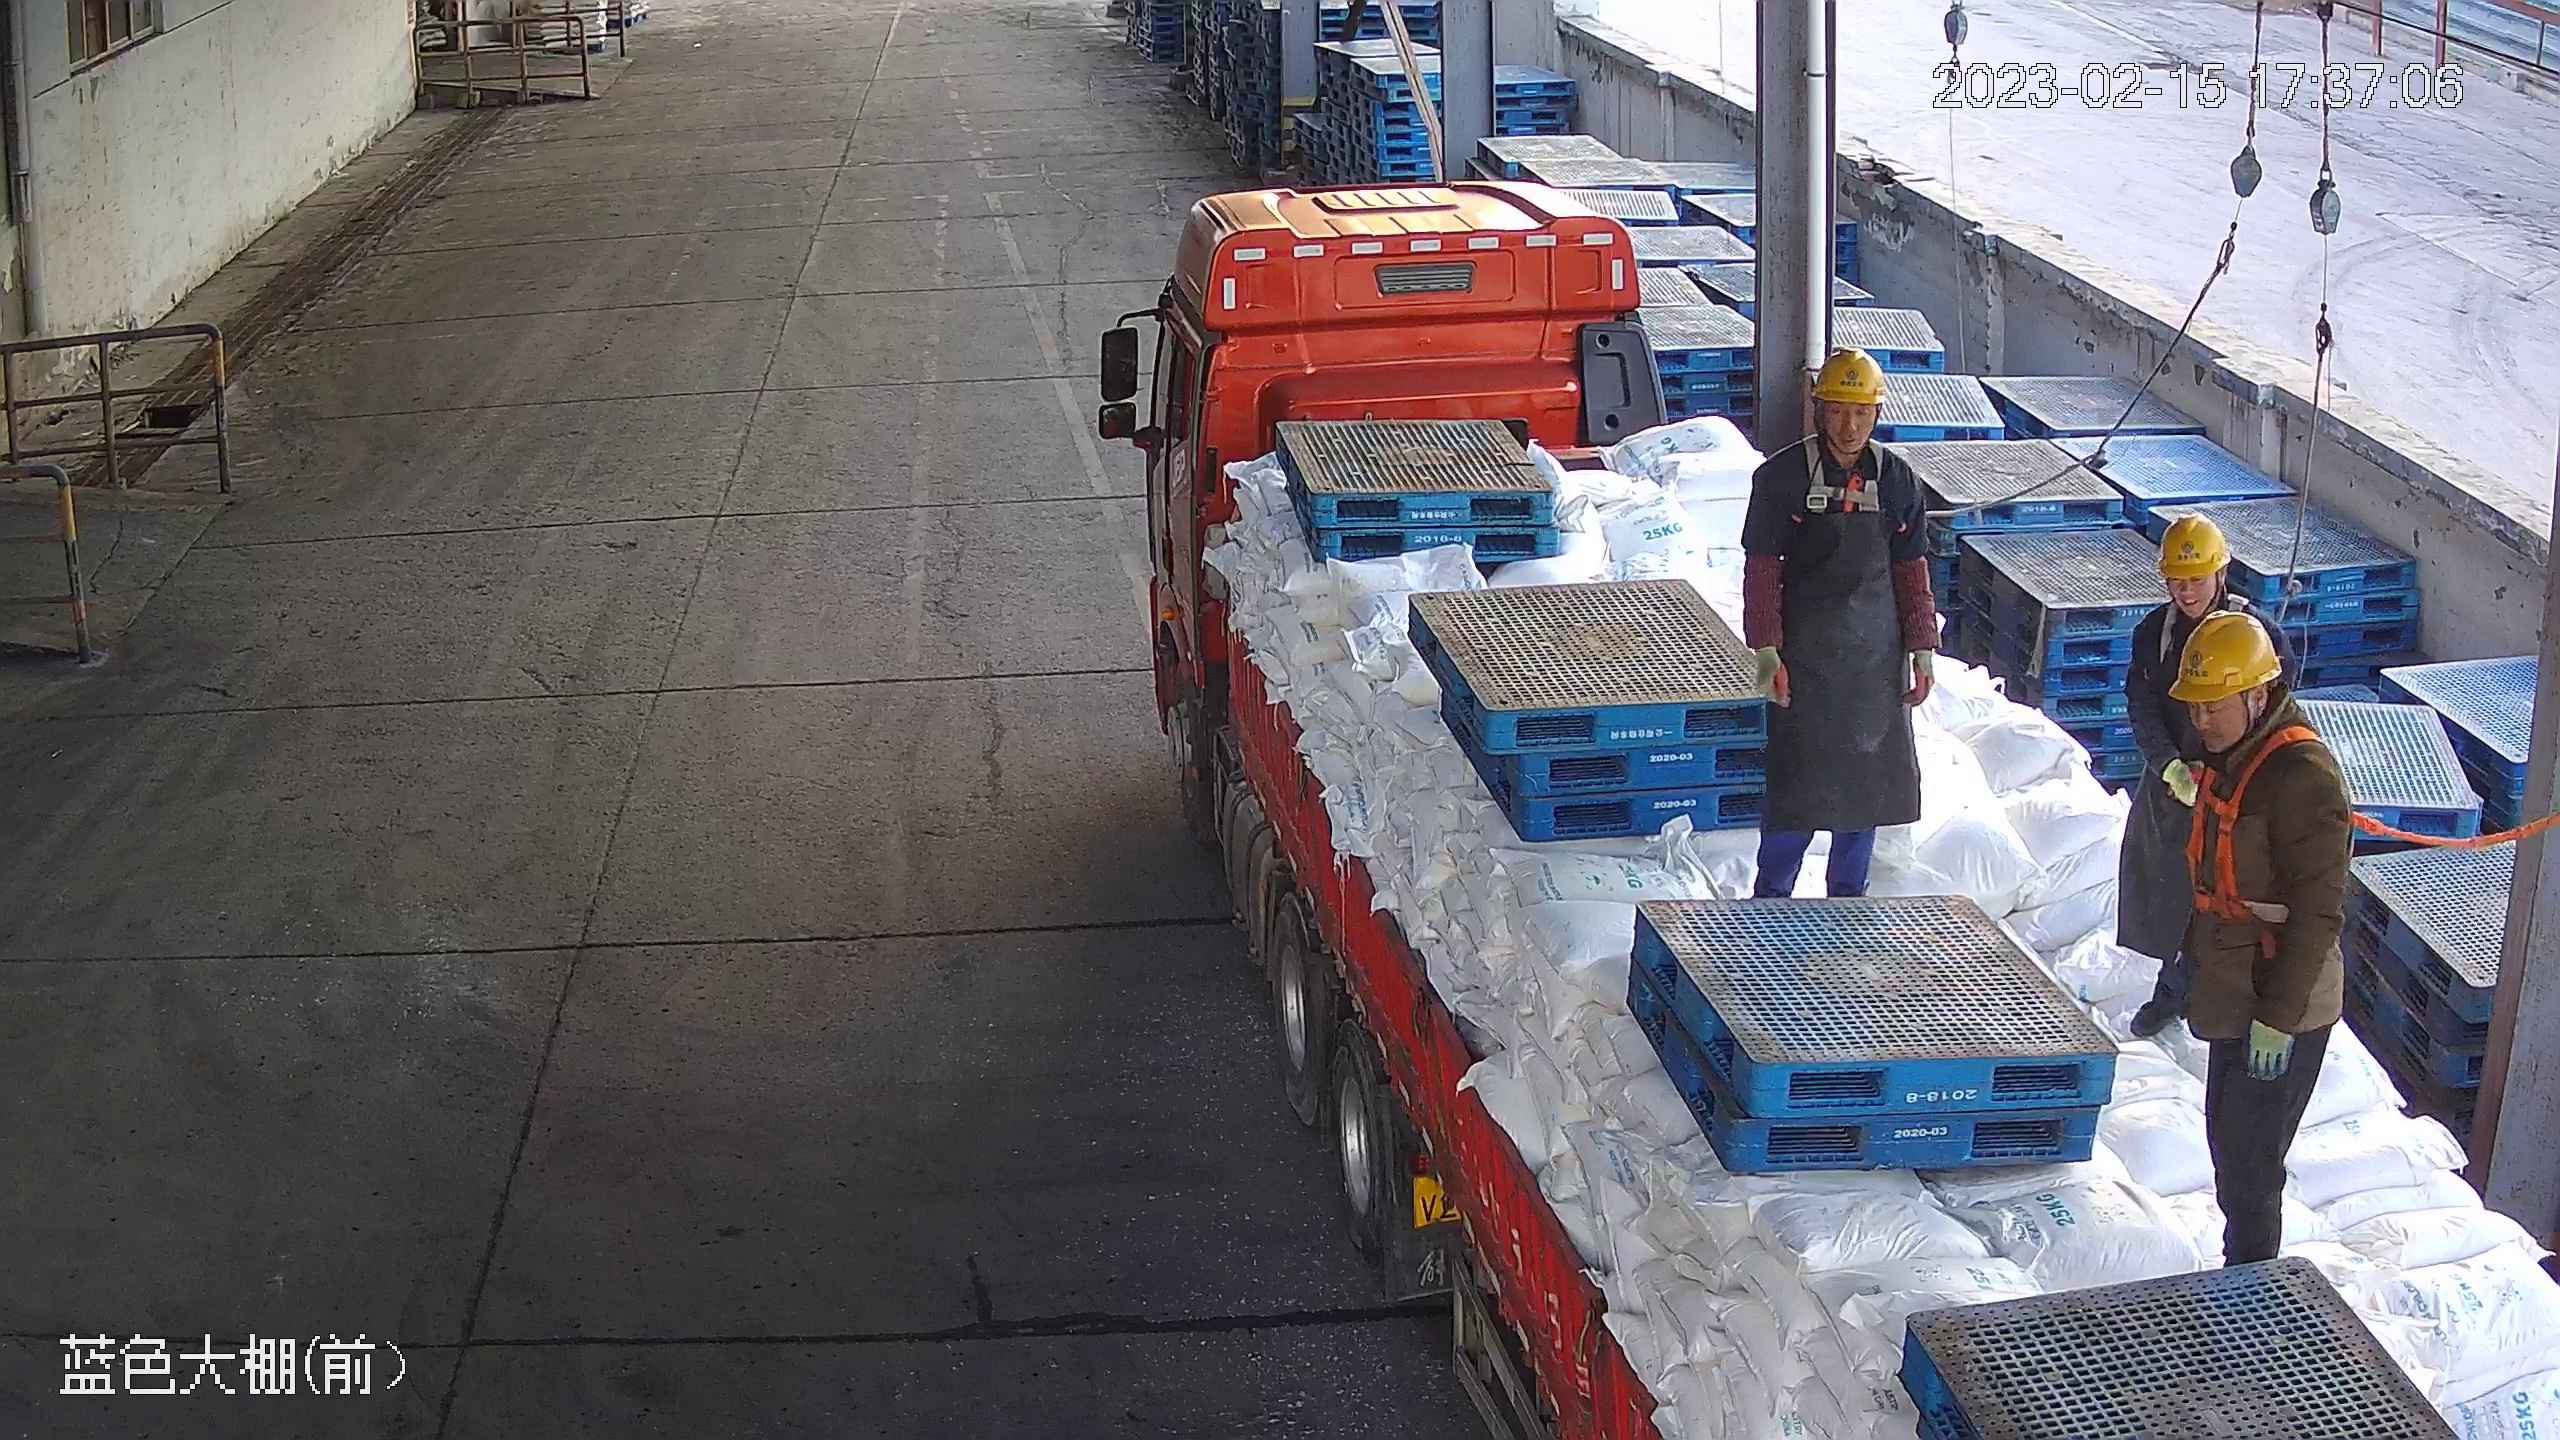belt: (2186, 717, 2372, 927), (1792, 427, 1896, 525)
head: (2168, 618, 2346, 795), (1753, 350, 1920, 503)
helmet: (2173, 612, 2288, 705), (2157, 504, 2233, 584), (1817, 346, 1892, 414)
people: (2168, 612, 2340, 1271), (1742, 350, 1948, 899)
truck: (1090, 173, 2560, 1440)
